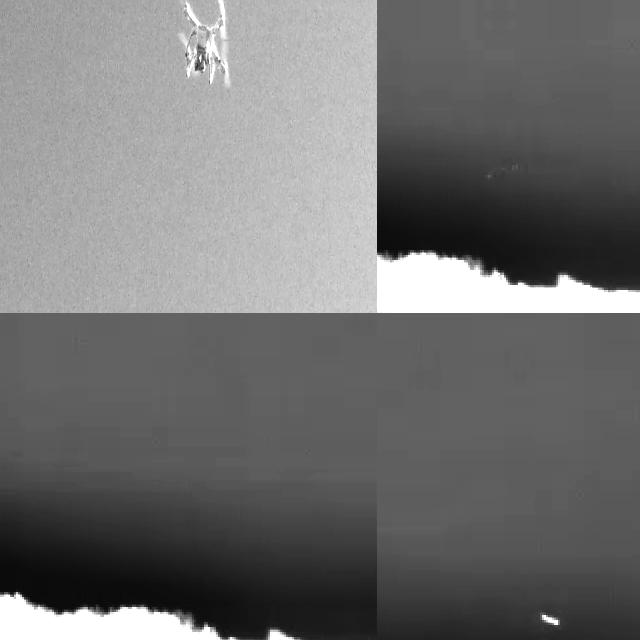0: (475, 164, 503, 194)
1: (532, 606, 574, 639)
drone: (176, 0, 236, 94)
